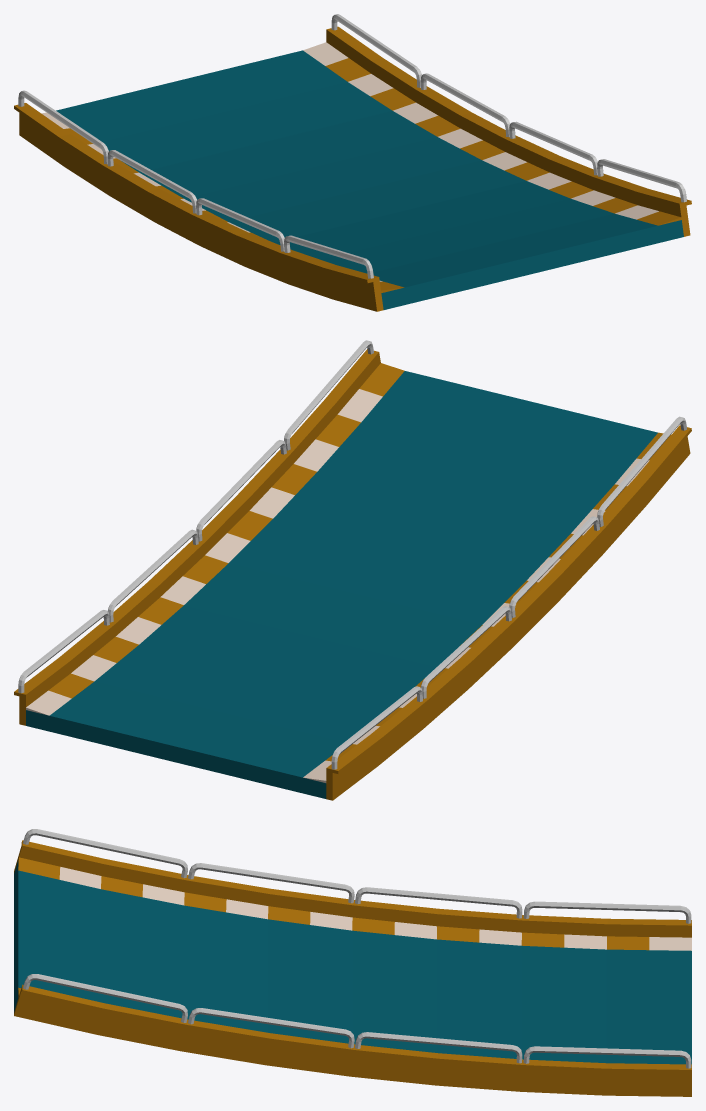
File: ascent-15_m.FBX
3 renders of one model, top to bottom at view 1: azimuth 30°, elevation 25°; view 2: azimuth 150°, elevation 25°; view 3: azimuth 270°, elevation 25°, orthographic. The views are drawn at different scales.
Visible parts, largest first — view 1: ascent-15_m, wall_r, wall_l, curbs_l, curbs_r; view 2: ascent-15_m, wall_r, wall_l, curbs_l, curbs_r; view 3: ascent-15_m, wall_l, wall_r, curbs_r.
Part boxes in pixels (x1,y1,x2,y2): ascent-15_m: (56, 50, 683, 309); wall_r: (14, 90, 383, 311); wall_l: (326, 14, 691, 236); curbs_l: (303, 42, 681, 225); curbs_r: (41, 112, 404, 292); ascent-15_m: (26, 371, 657, 798); wall_r: (326, 416, 691, 800); wall_l: (14, 340, 380, 725); curbs_l: (26, 363, 404, 715); curbs_r: (303, 432, 671, 782); ascent-15_m: (14, 860, 691, 1064); wall_l: (14, 974, 691, 1096); wall_r: (14, 829, 691, 937); curbs_r: (18, 857, 691, 950).
Size of what is drawn, in the model's own units: 207 by 78.76 by 395.
